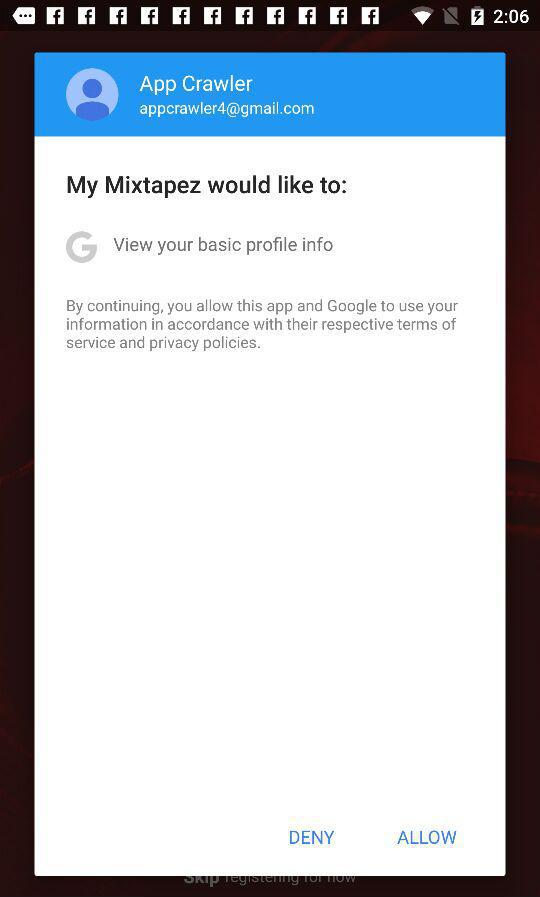Icon: (66, 68, 120, 121)
Modal: (34, 53, 506, 877)
Text: (67, 299, 459, 353), (67, 175, 347, 200), (139, 101, 315, 120), (140, 75, 253, 97), (66, 231, 99, 265), (397, 829, 457, 846), (289, 829, 335, 845)
TextButton: (114, 236, 334, 257)
UpperTaskBar: (1, 1, 540, 33)
